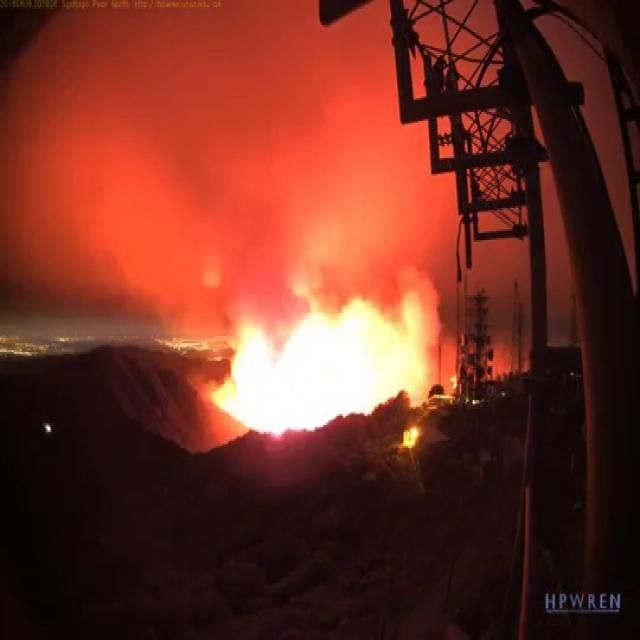Fire: (248, 318, 415, 418)
